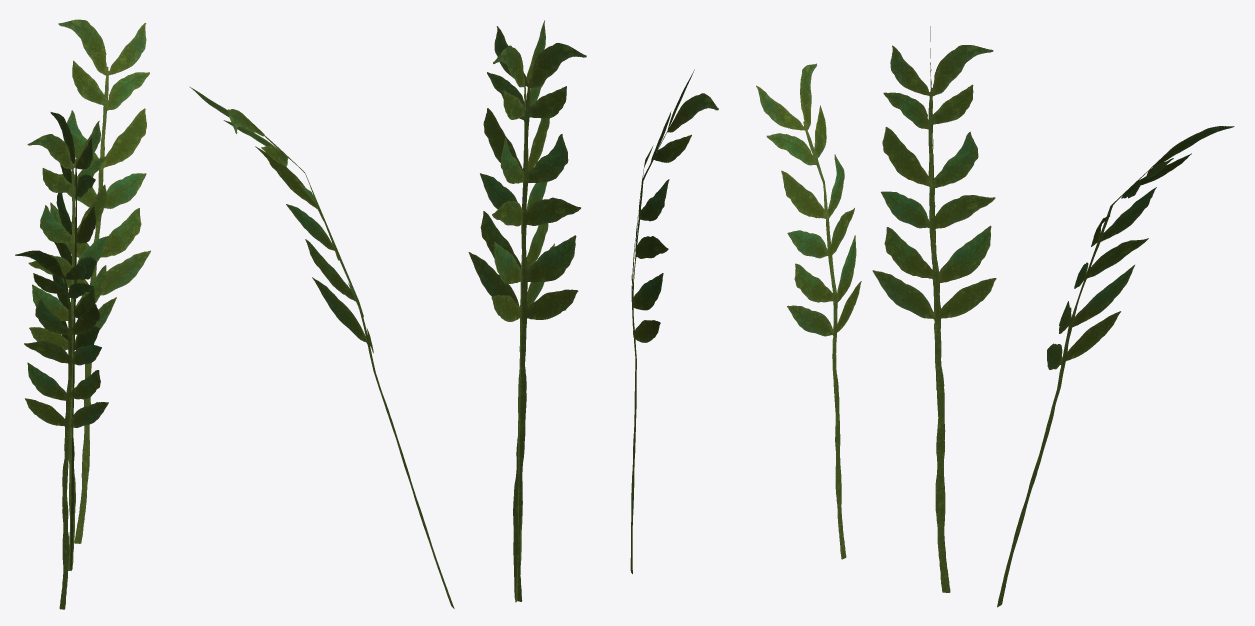
File: SM_Plant_04.fbx
The picture shows the model from 3 angles, left to right: view 1: azimuth 30°, elevation 25°; view 2: azimuth 150°, elevation 25°; view 3: azimuth 270°, elevation 25°; orthographic projection. The views are drawn at different scales.
Visible parts, largest first — view 1: SM_Plant_04_LOD0; view 2: SM_Plant_04_LOD0; view 3: SM_Plant_04_LOD0.
Boxes of the visible parts, <box> form: SM_Plant_04_LOD0: <box>15,19,150,609</box>; SM_Plant_04_LOD0: <box>189,20,718,608</box>; SM_Plant_04_LOD0: <box>756,26,1234,607</box>.
Bounding box in the file's own units: 43.66 × 53.43 × 66.92.
